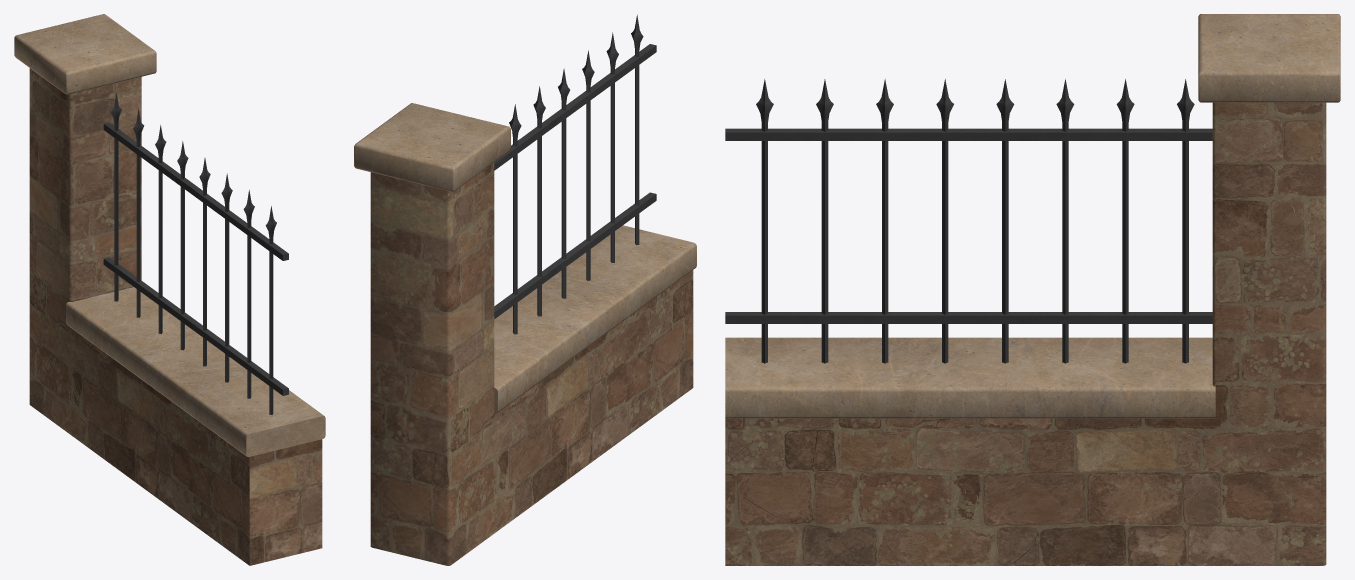
The model's file is SM_FenceA.fbx.
3 views of the same model, side by side, from view 1: azimuth 30°, elevation 25°; view 2: azimuth 150°, elevation 25°; view 3: azimuth 270°, elevation 25° (orthographic). The views are drawn at different scales.
Parts seen in each view (by area): view 1: SM_FenceA_LOD0; view 2: SM_FenceA_LOD0; view 3: SM_FenceA_LOD0.
Boxes of the visible parts, x1,y1,x2,y2 form: SM_FenceA_LOD0: [14, 14, 325, 565]; SM_FenceA_LOD0: [354, 14, 696, 565]; SM_FenceA_LOD0: [725, 14, 1340, 565].
Size of the model in its own units: 47.39 by 205 by 183.
Materials: 3 (3 with a texture image).
